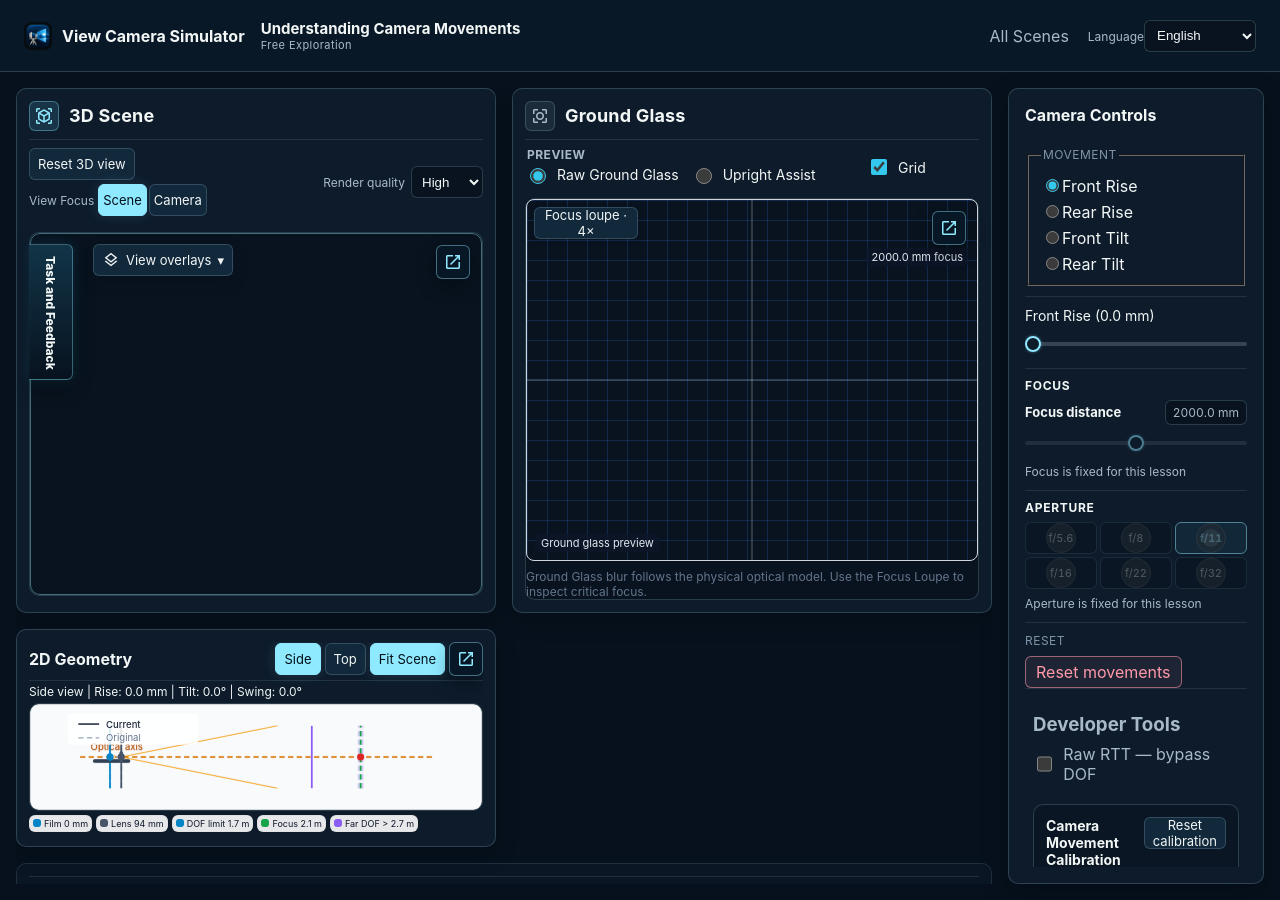
Test: public camera movement controls in the workspace › calibration route does not apply Neutral after workbench edits
Click the button "Reset calibration".
click(1185, 833)  # box 1144,817 -> 1226,849
(page scrolled)
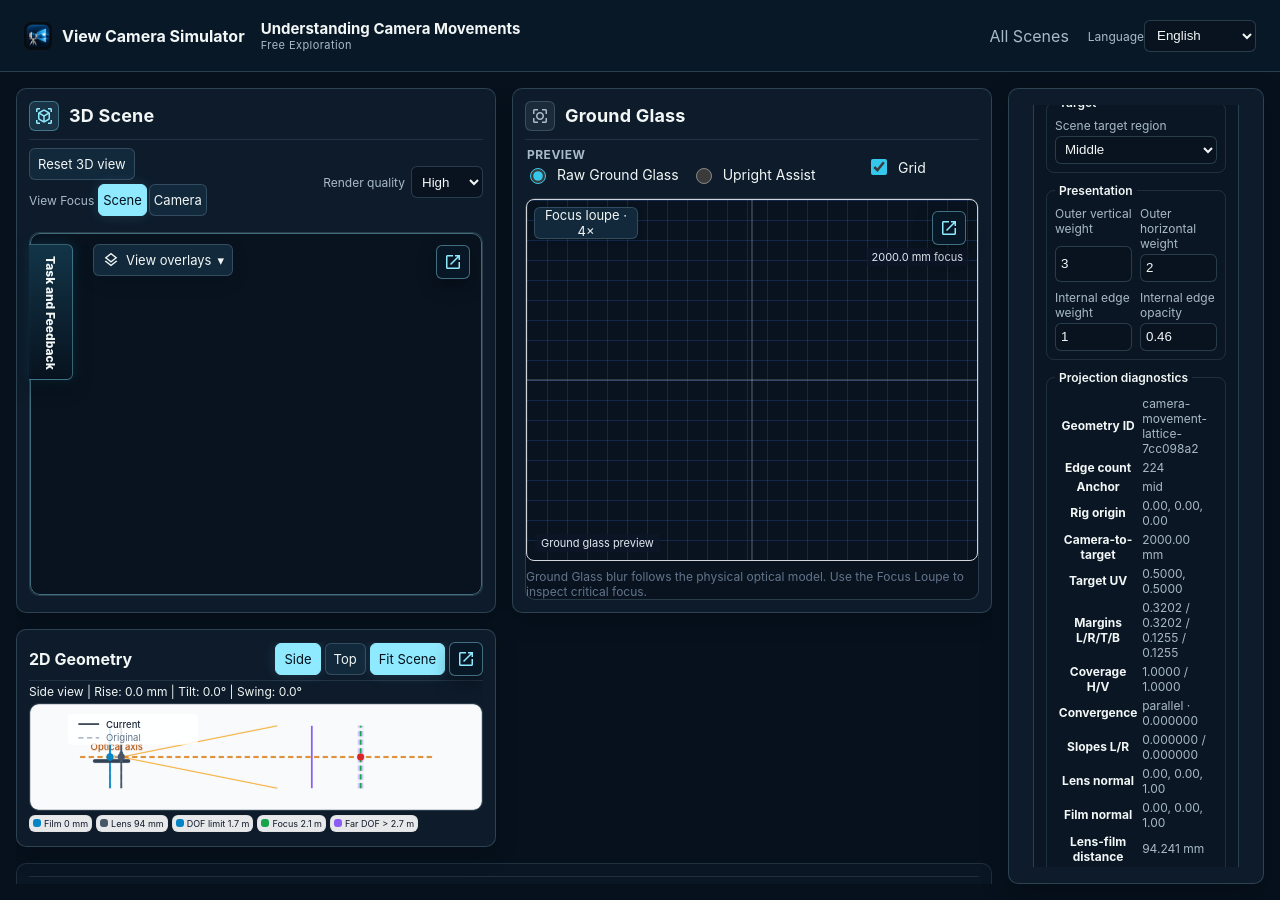
Now the cell "mid" is shown, box 1141,478 -> 1215,495
